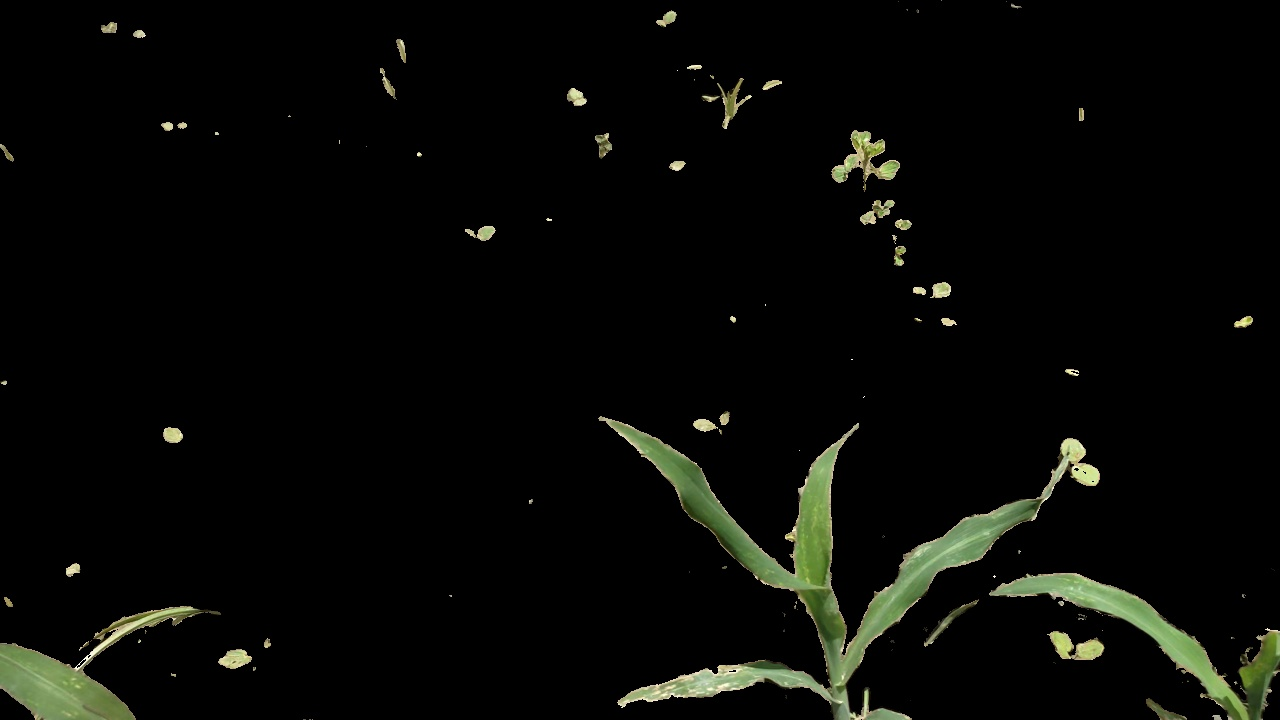crop: (591, 408, 1039, 720), (921, 561, 1280, 720)
weed: (662, 62, 793, 141), (832, 122, 905, 194), (197, 638, 301, 677), (1058, 421, 1108, 499), (1042, 617, 1102, 682), (905, 274, 962, 329), (453, 207, 516, 252), (686, 401, 735, 438), (858, 202, 896, 224)
